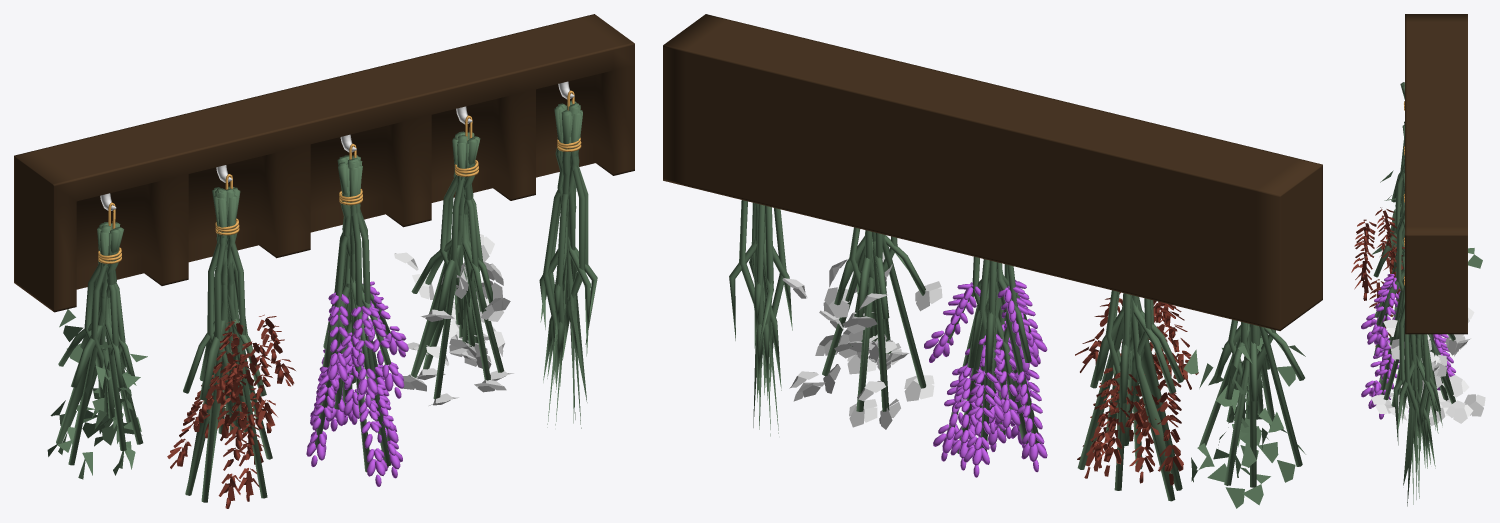
File: SuszoneZioła.fbx
3 renders of one model, left to right at view 1: azimuth 30°, elevation 25°; view 2: azimuth 150°, elevation 25°; view 3: azimuth 270°, elevation 25°, orthographic. The views are drawn at different scales.
Parts seen in each view (by area): view 1: stojak, Łodyga4, Łodyga5, Łodyga3, Kwiatki3, Łodyga2, Kwiatki2, Łodyga1, Kwiatki, Kwiatki.001, Sznurek, haczyk; view 2: stojak, Kwiatki3, Łodyga3, Kwiatki, Łodyga4, Łodyga2, Kwiatki2, Łodyga5, Łodyga1, Kwiatki.001; view 3: stojak, Łodyga5, Kwiatki, Kwiatki3, Kwiatki2, Łodyga1, Łodyga4, Łodyga3, Kwiatki.001, Łodyga2.
Part boxes in pixels (box(x1,y1,x2,y2)): stojak: box(14, 14, 634, 312); Łodyga4: box(410, 131, 504, 399); Łodyga5: box(539, 100, 597, 428); Łodyga3: box(183, 186, 272, 502); Kwiatki3: box(306, 281, 408, 486); Łodyga2: box(56, 222, 143, 465); Kwiatki2: box(167, 314, 295, 508); Łodyga1: box(314, 155, 392, 472); Kwiatki: box(394, 234, 513, 405); Kwiatki.001: box(47, 309, 147, 479); Sznurek: box(98, 90, 581, 263); haczyk: box(100, 81, 574, 210); stojak: box(663, 14, 1322, 330); Kwiatki3: box(924, 279, 1047, 477); Łodyga3: box(1077, 290, 1183, 501); Kwiatki: box(782, 252, 942, 429); Łodyga4: box(822, 227, 926, 411); Łodyga2: box(1199, 319, 1304, 487); Kwiatki2: box(1075, 292, 1198, 485); Łodyga5: box(729, 200, 792, 436); Łodyga1: box(946, 256, 1040, 453); Kwiatki.001: box(1183, 336, 1305, 508); stojak: box(1405, 14, 1467, 334); Łodyga5: box(1393, 249, 1442, 506); Kwiatki: box(1371, 307, 1485, 425); Kwiatki3: box(1361, 274, 1455, 419); Kwiatki2: box(1351, 207, 1404, 346); Łodyga1: box(1374, 168, 1446, 394); Łodyga4: box(1383, 217, 1455, 411); Łodyga3: box(1373, 121, 1404, 354); Kwiatki.001: box(1371, 170, 1482, 268); Łodyga2: box(1385, 82, 1404, 246).
Bounding box in the file's own units: 237 × 148 × 61.01.
